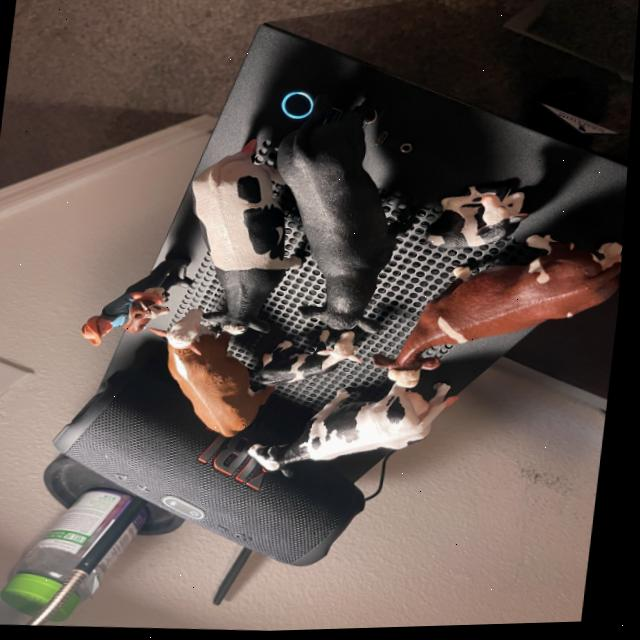cow: (358, 207, 640, 401), (266, 88, 417, 348), (193, 139, 311, 339), (247, 375, 471, 476), (148, 302, 288, 448), (426, 183, 533, 256), (257, 330, 367, 390), (118, 283, 180, 339), (317, 330, 335, 353)
person: (82, 284, 157, 350), (153, 308, 156, 313)
